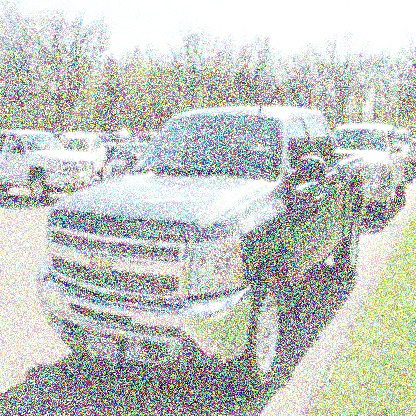Vehicle: (38, 103, 368, 390)
